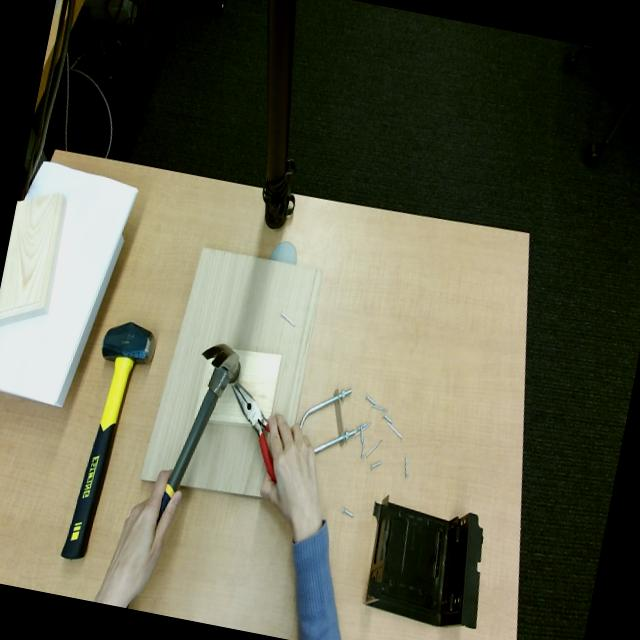hammer: (61, 321, 156, 559), (156, 343, 241, 528)
pliers: (231, 383, 276, 483)
